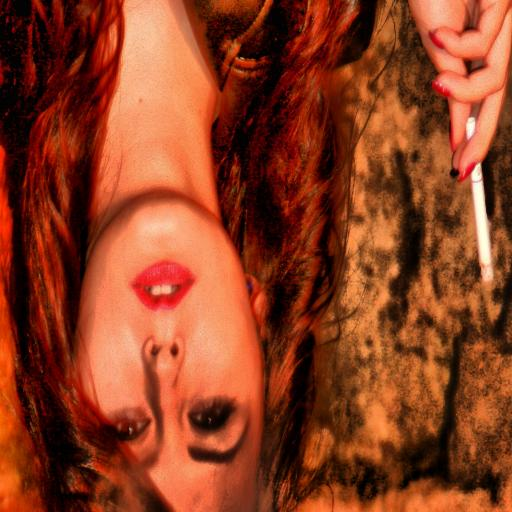Merokok: (471, 164, 493, 282), (466, 116, 476, 137)
Rokok: (407, 0, 512, 282)
